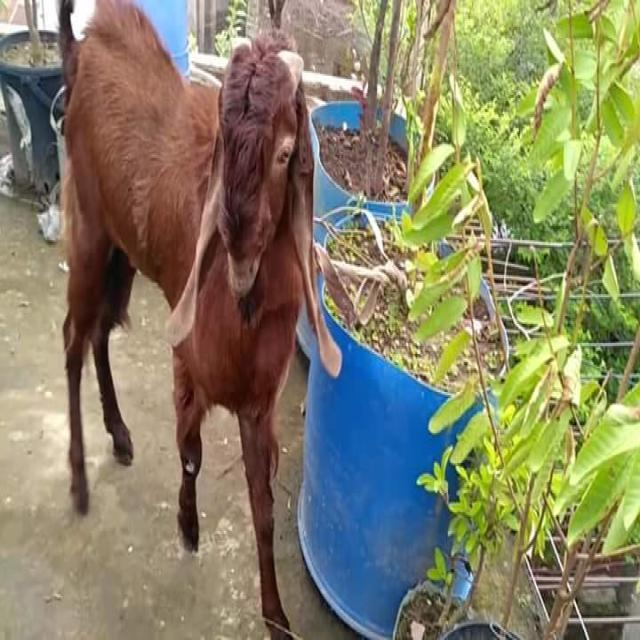Goat: (53, 0, 342, 637)
